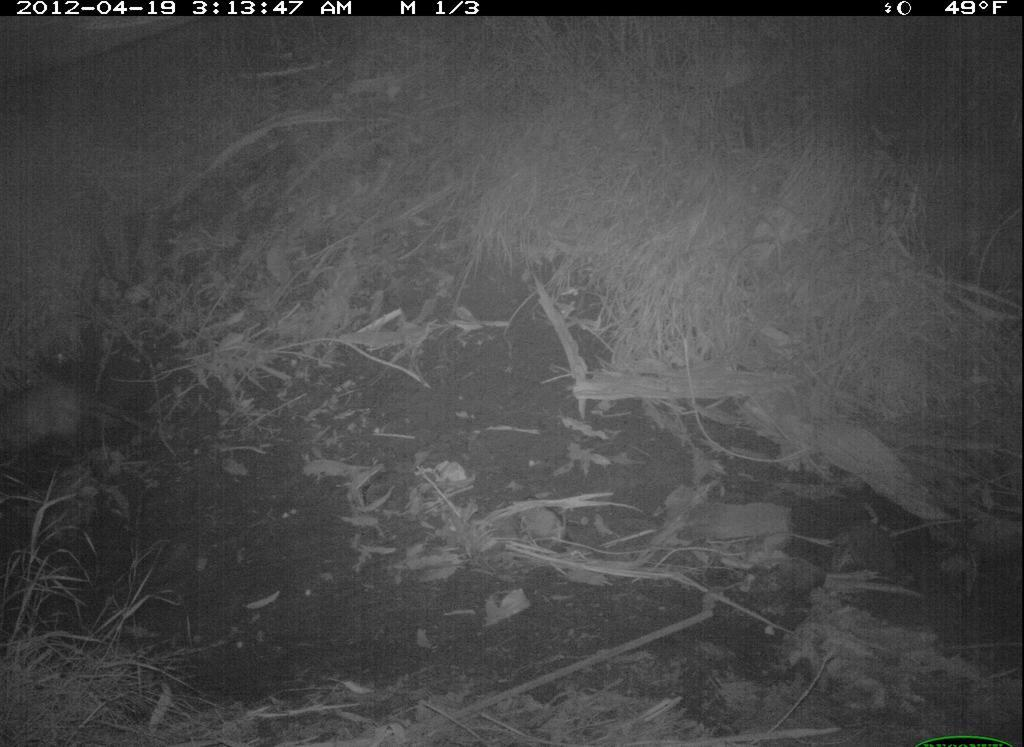opossum: (1, 373, 155, 469)
